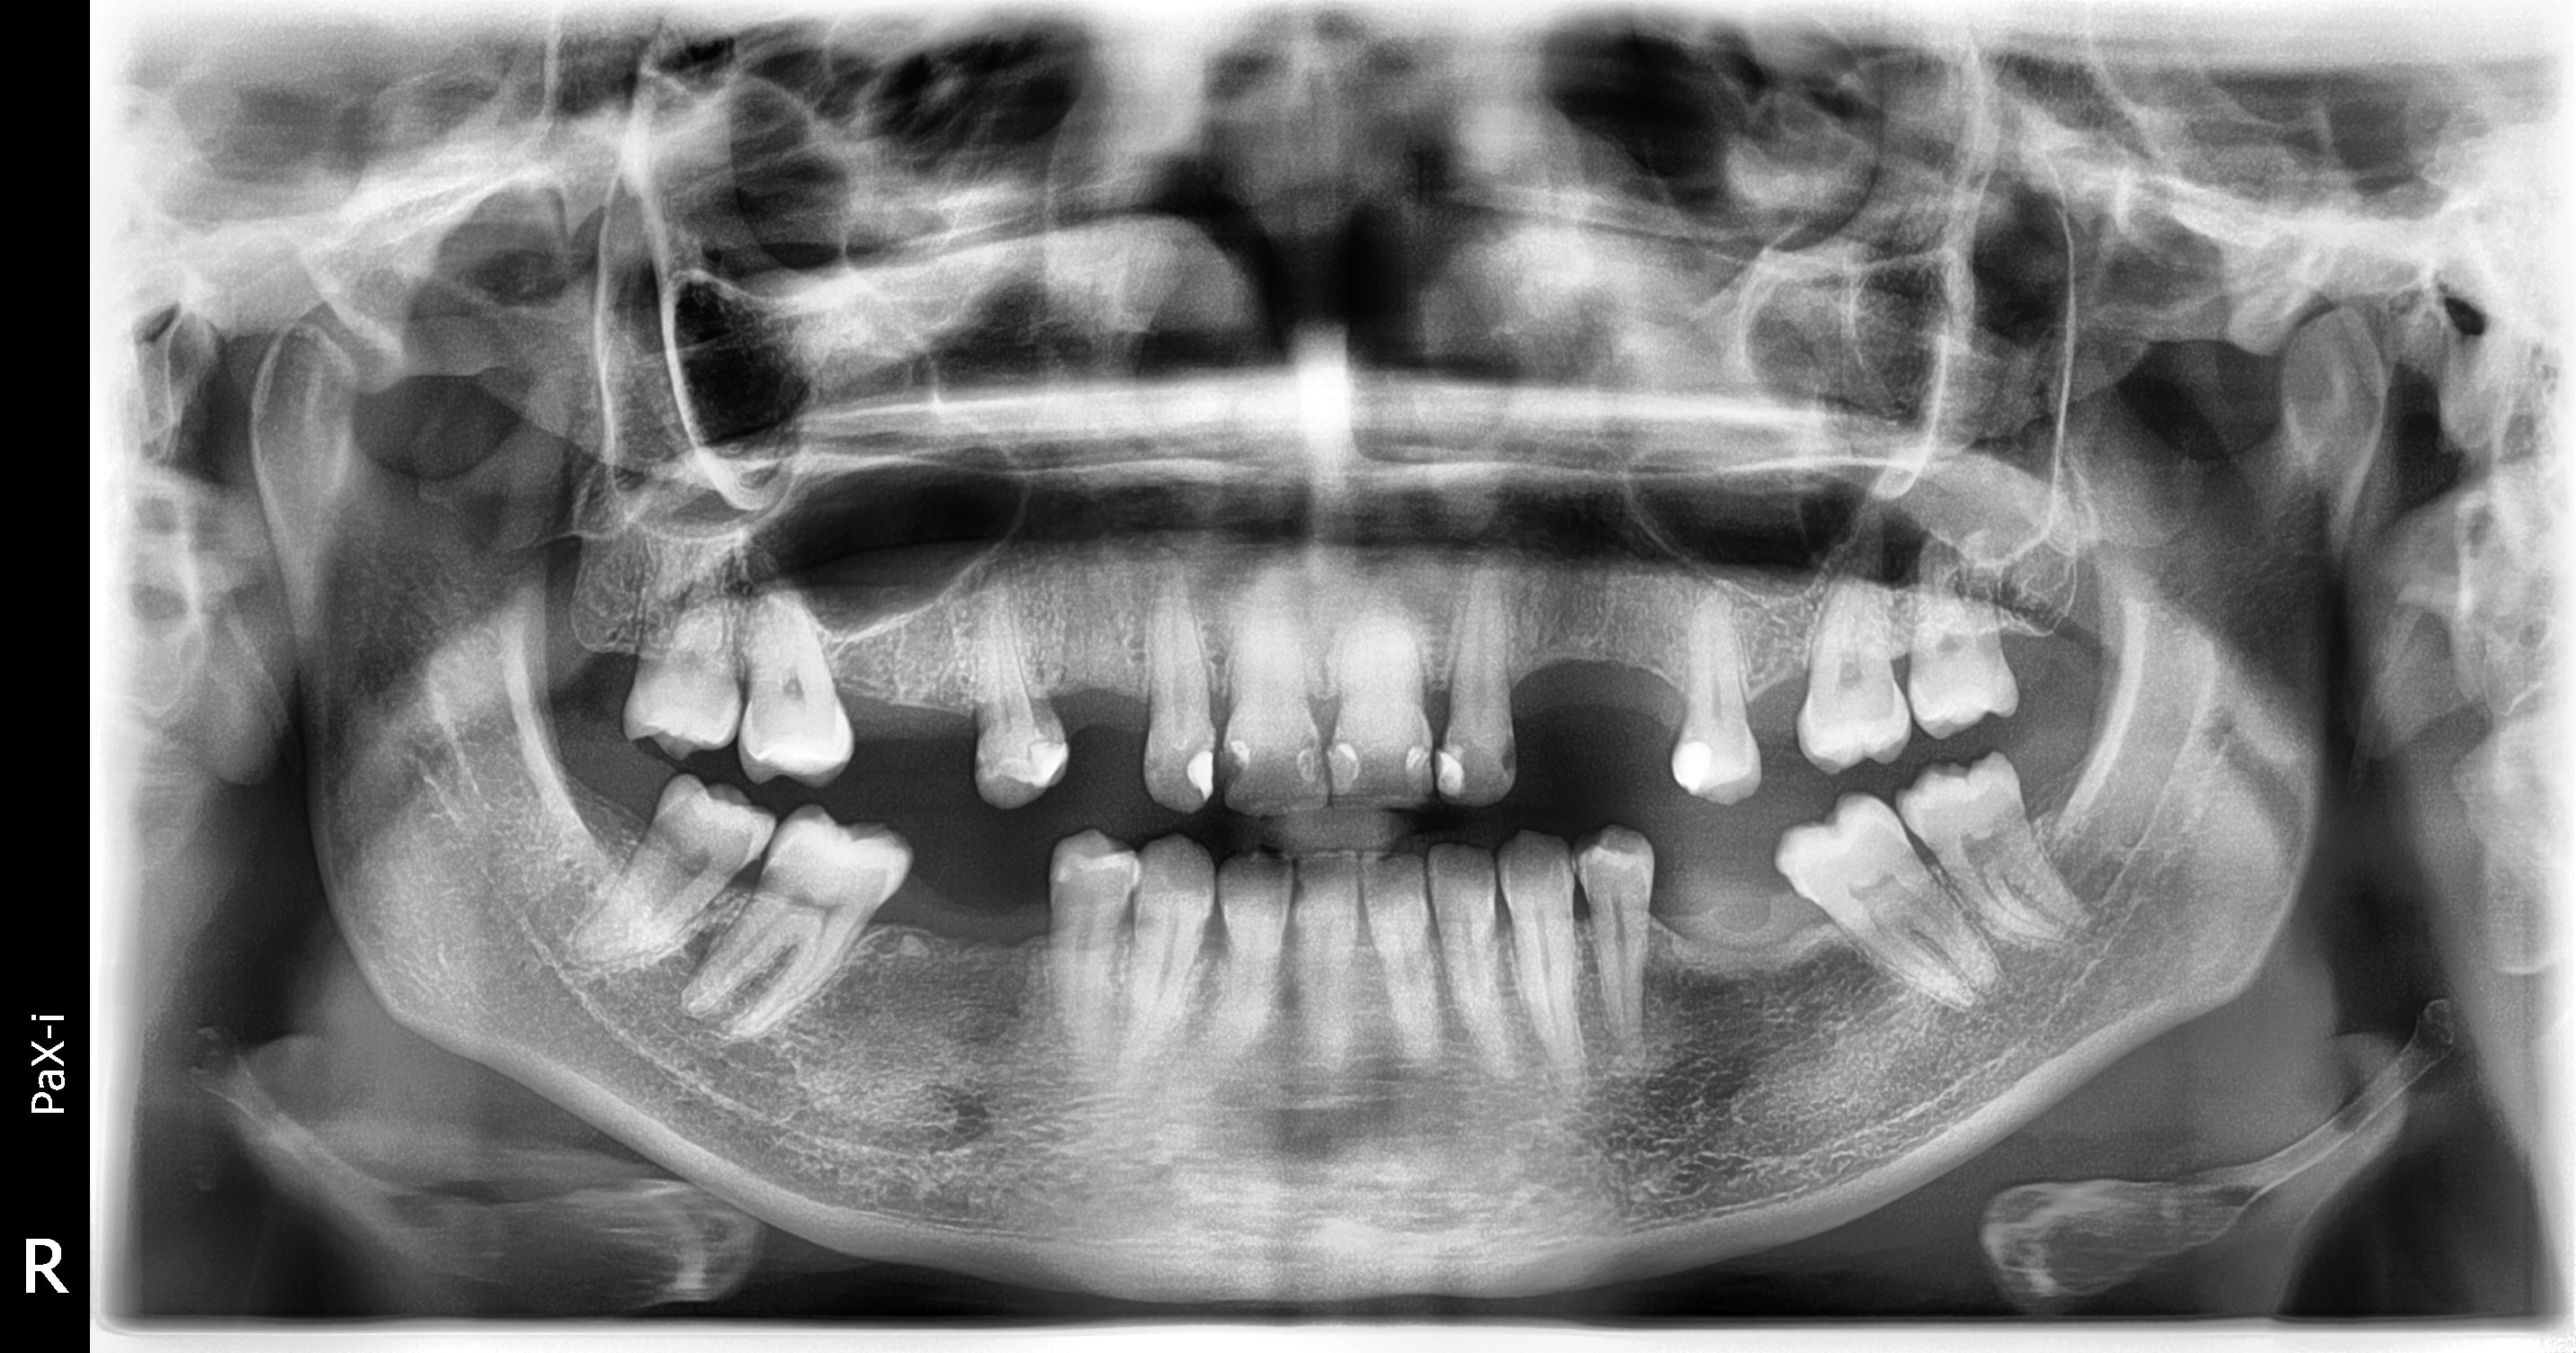CAR: (709, 322, 2237, 1125), (589, 320, 1840, 1125), (453, 348, 1457, 1128)
OBT: (782, 317, 2515, 1123), (685, 302, 2162, 1125), (646, 327, 2102, 1133), (622, 312, 2012, 1111), (598, 327, 1944, 1120), (474, 314, 1557, 1123)
